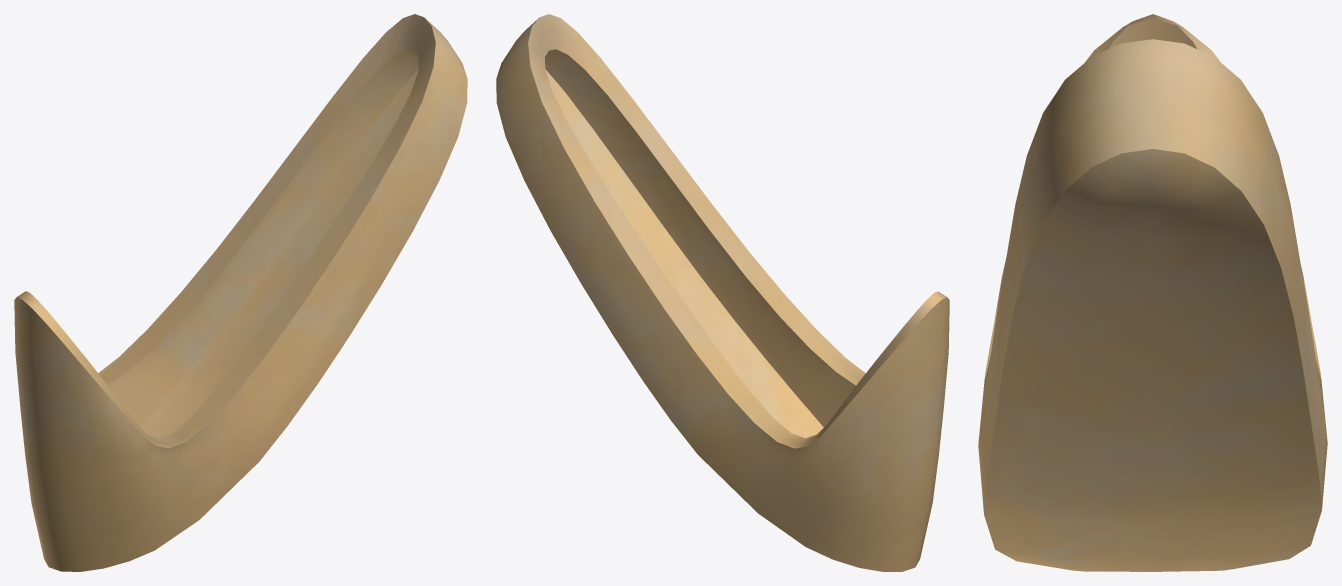
File: wm_legolas_sword_pommel.fbx
3 renders of one model, left to right at view 1: azimuth 30°, elevation 25°; view 2: azimuth 150°, elevation 25°; view 3: azimuth 270°, elevation 25°, orthographic. The views are drawn at different scales.
Visible parts, largest first — view 1: wm_legolas_sword_pommel; view 2: wm_legolas_sword_pommel; view 3: wm_legolas_sword_pommel.
Boxes of the visible parts, x1,y1,x2,y2 form: wm_legolas_sword_pommel: (14, 14, 467, 571); wm_legolas_sword_pommel: (496, 14, 949, 571); wm_legolas_sword_pommel: (978, 14, 1327, 571).
Size of the model in its own units: 0.0489 by 0.0185 by 0.0496.
1 material, 1 textured.
